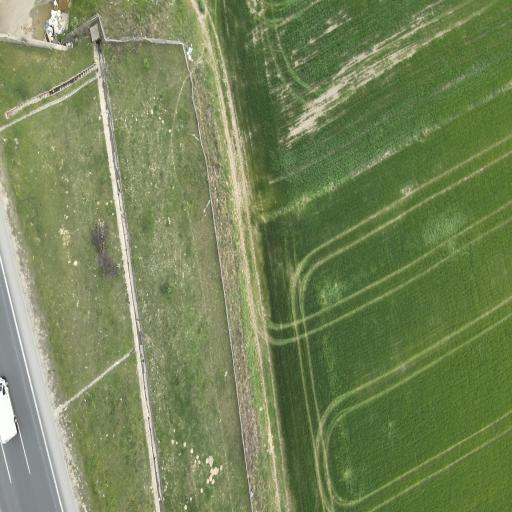truck: (0, 378, 17, 443)
